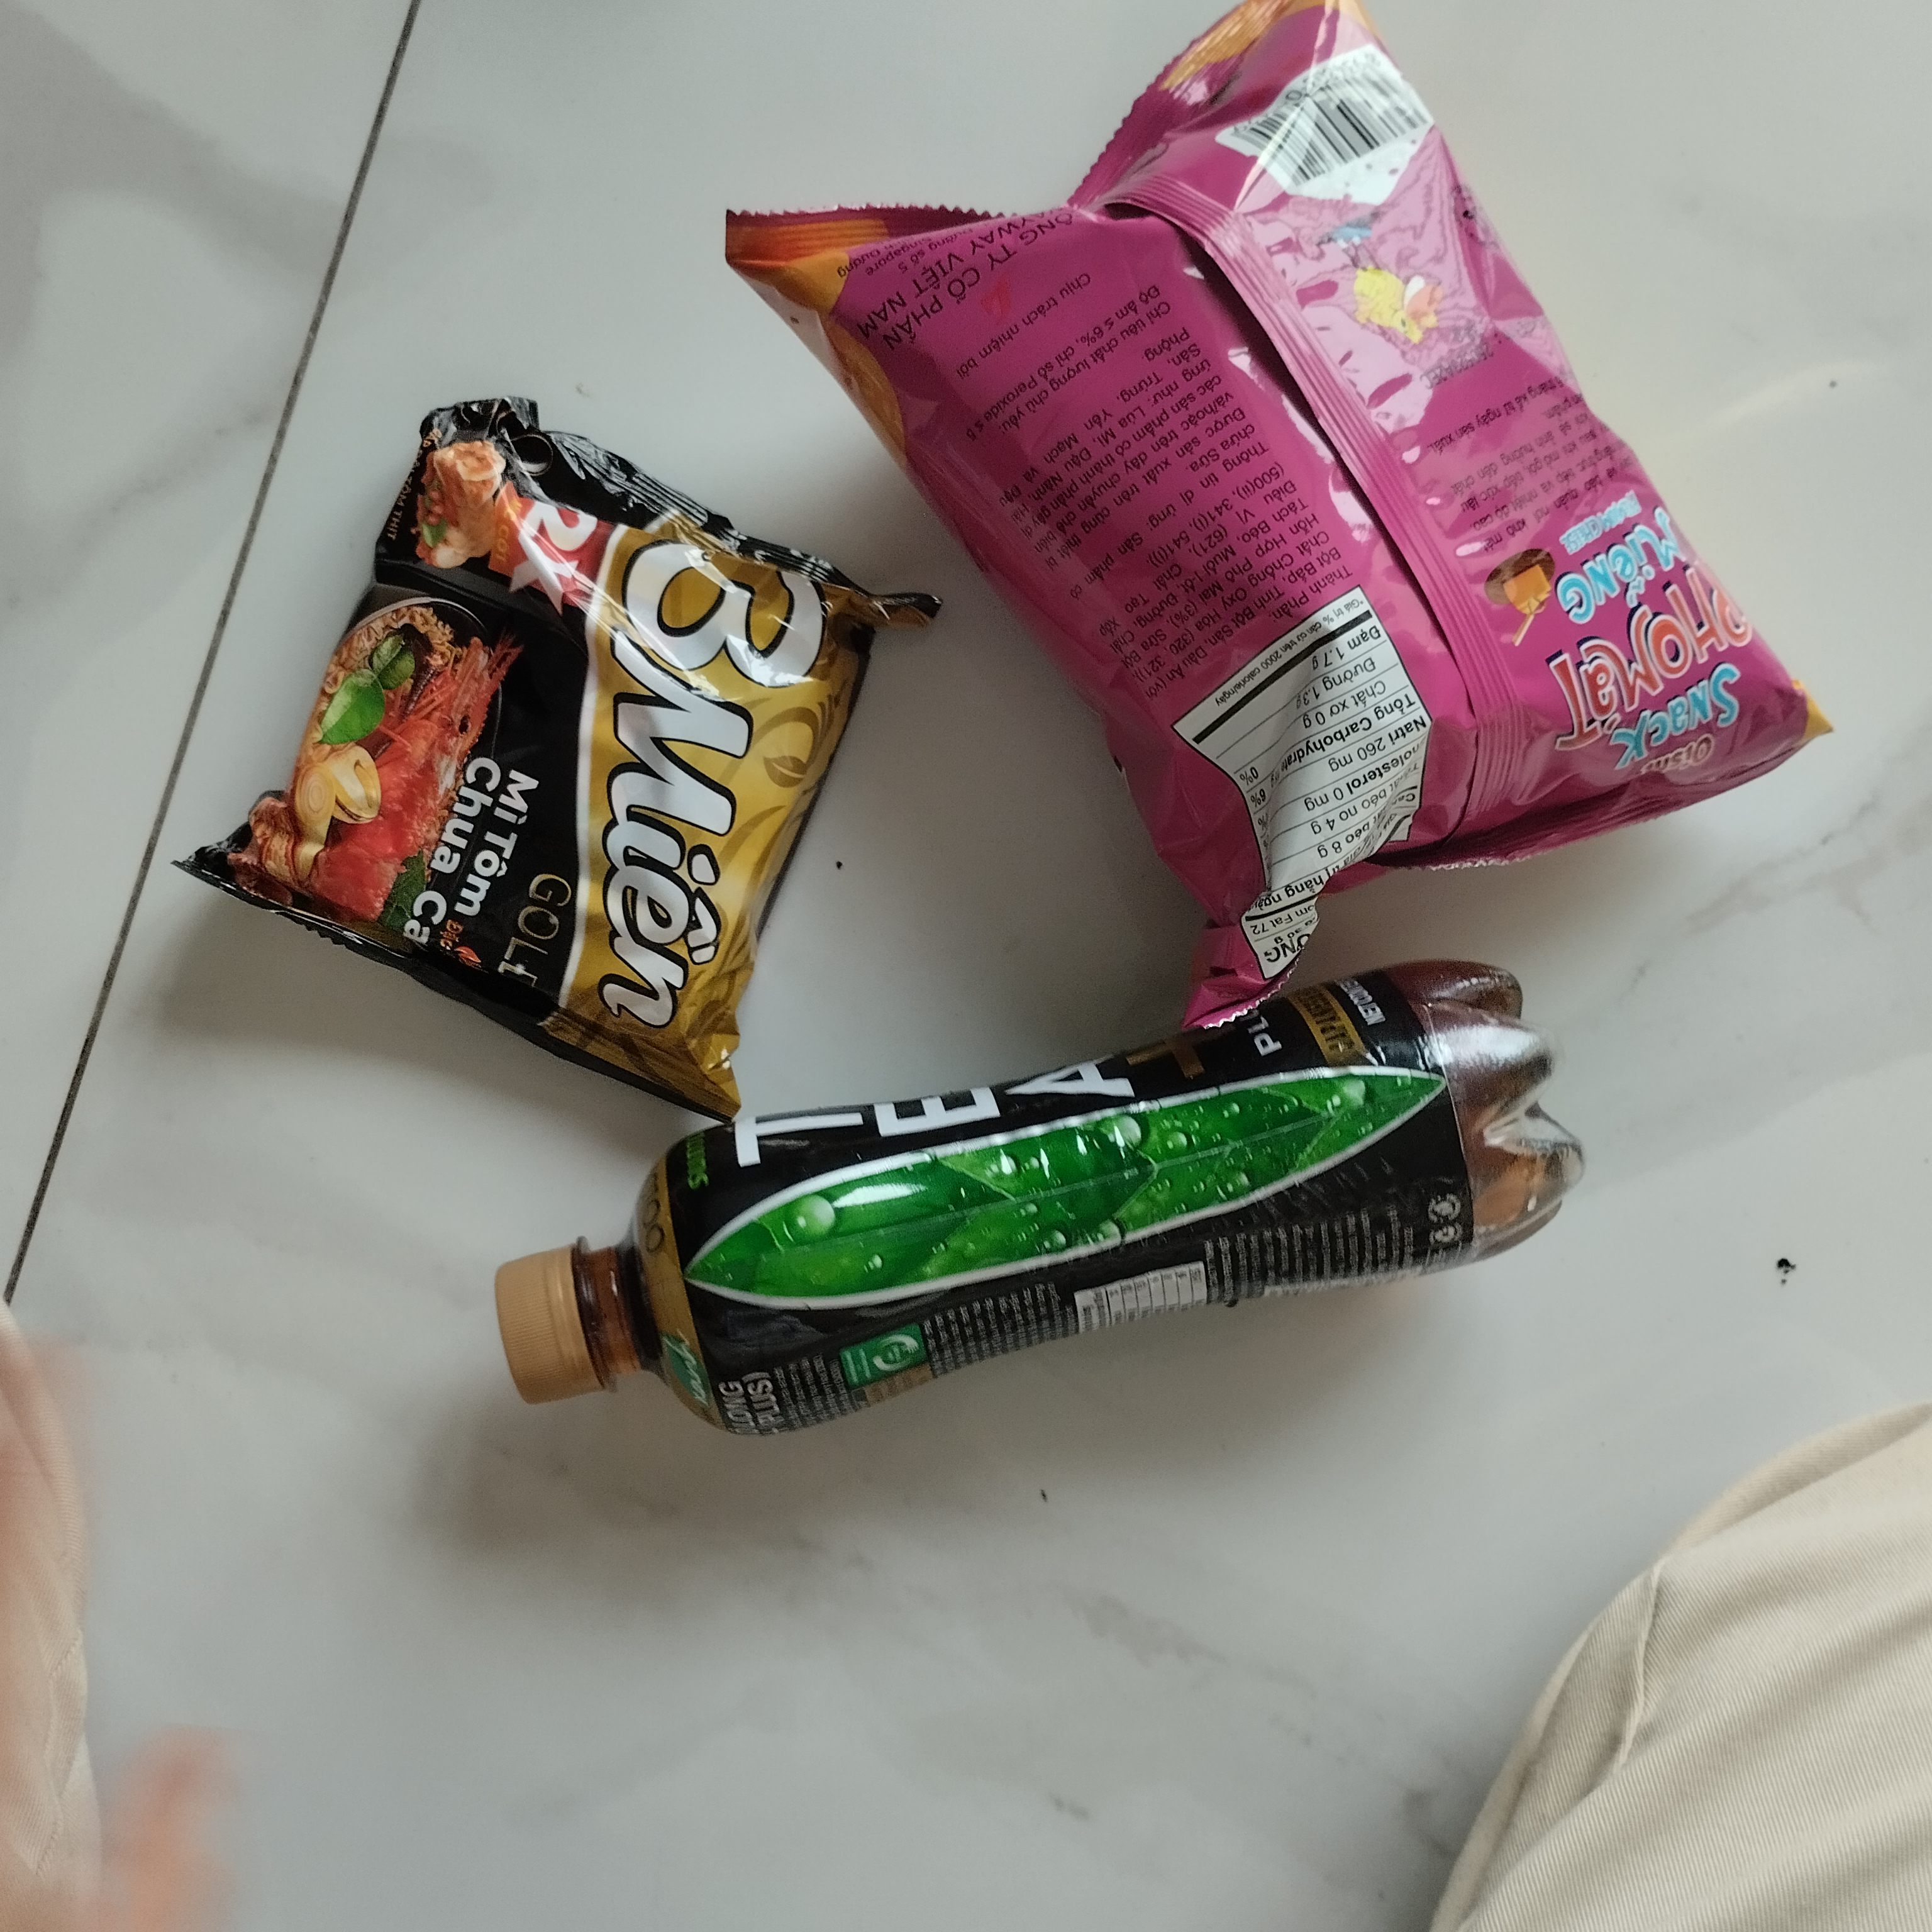3mien: (170, 395, 929, 1118)
Oishi_phomat: (702, 4, 1844, 1047)
Olong: (492, 941, 1585, 1481)
